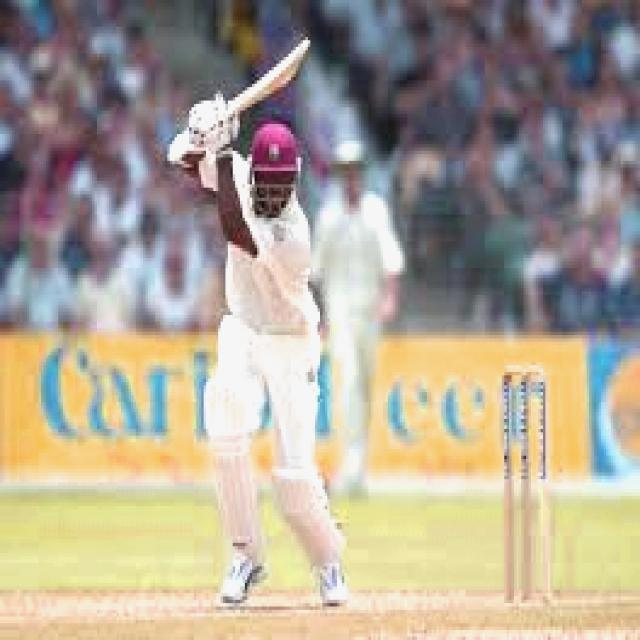bat: (223, 24, 321, 136)
